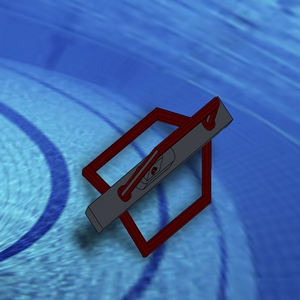submarine: (40, 65, 246, 267)
